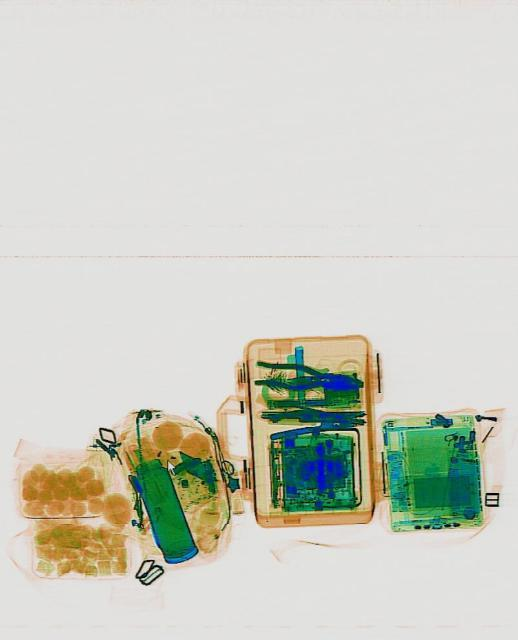Pliers: (251, 358, 363, 397)
